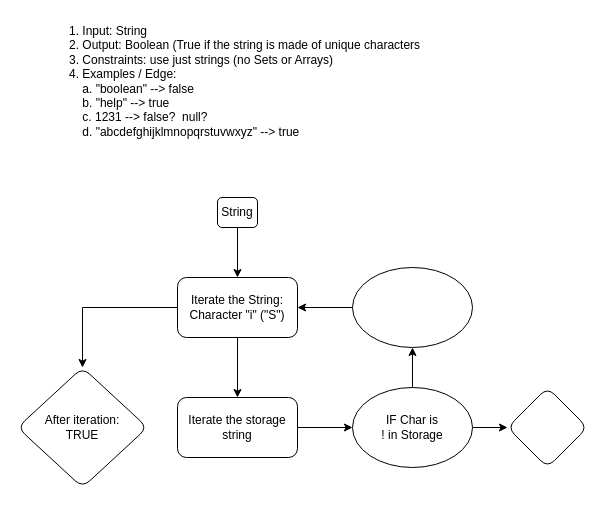
The diagram is 605 pixels wide and 505 high, and some of its shapes have lost their labels. Here are the shapes that lost their labels. From the top down, the centre of each, then its label:
At point 412,307: "Add to Storage Start next iteration".
At point 547,427: "ELSE FALSE".
